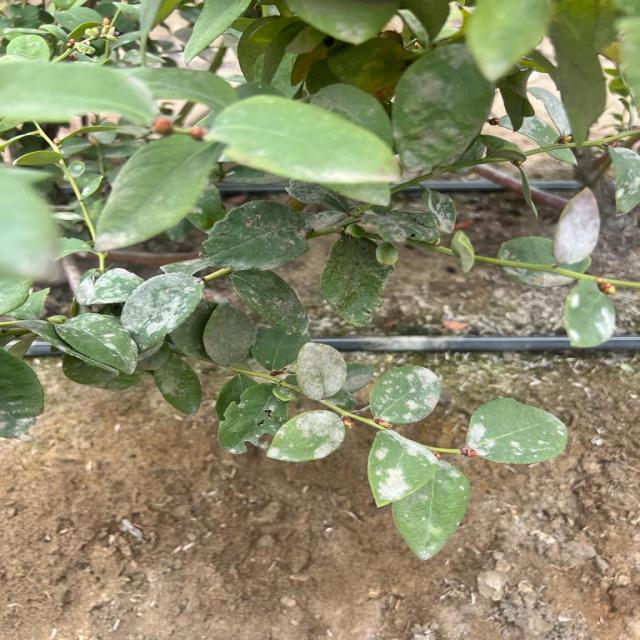Hojas con oidiosis: (89, 131, 224, 251), (388, 458, 472, 562), (195, 199, 310, 271), (118, 271, 207, 357), (464, 396, 569, 466), (228, 264, 310, 336), (50, 311, 139, 376), (365, 429, 437, 509), (263, 408, 347, 463), (368, 363, 441, 424), (292, 339, 348, 400), (75, 265, 157, 306)
